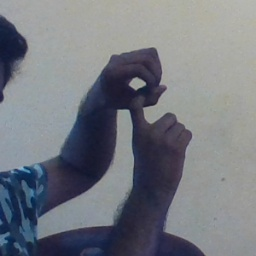Q: (81, 43, 196, 168)
